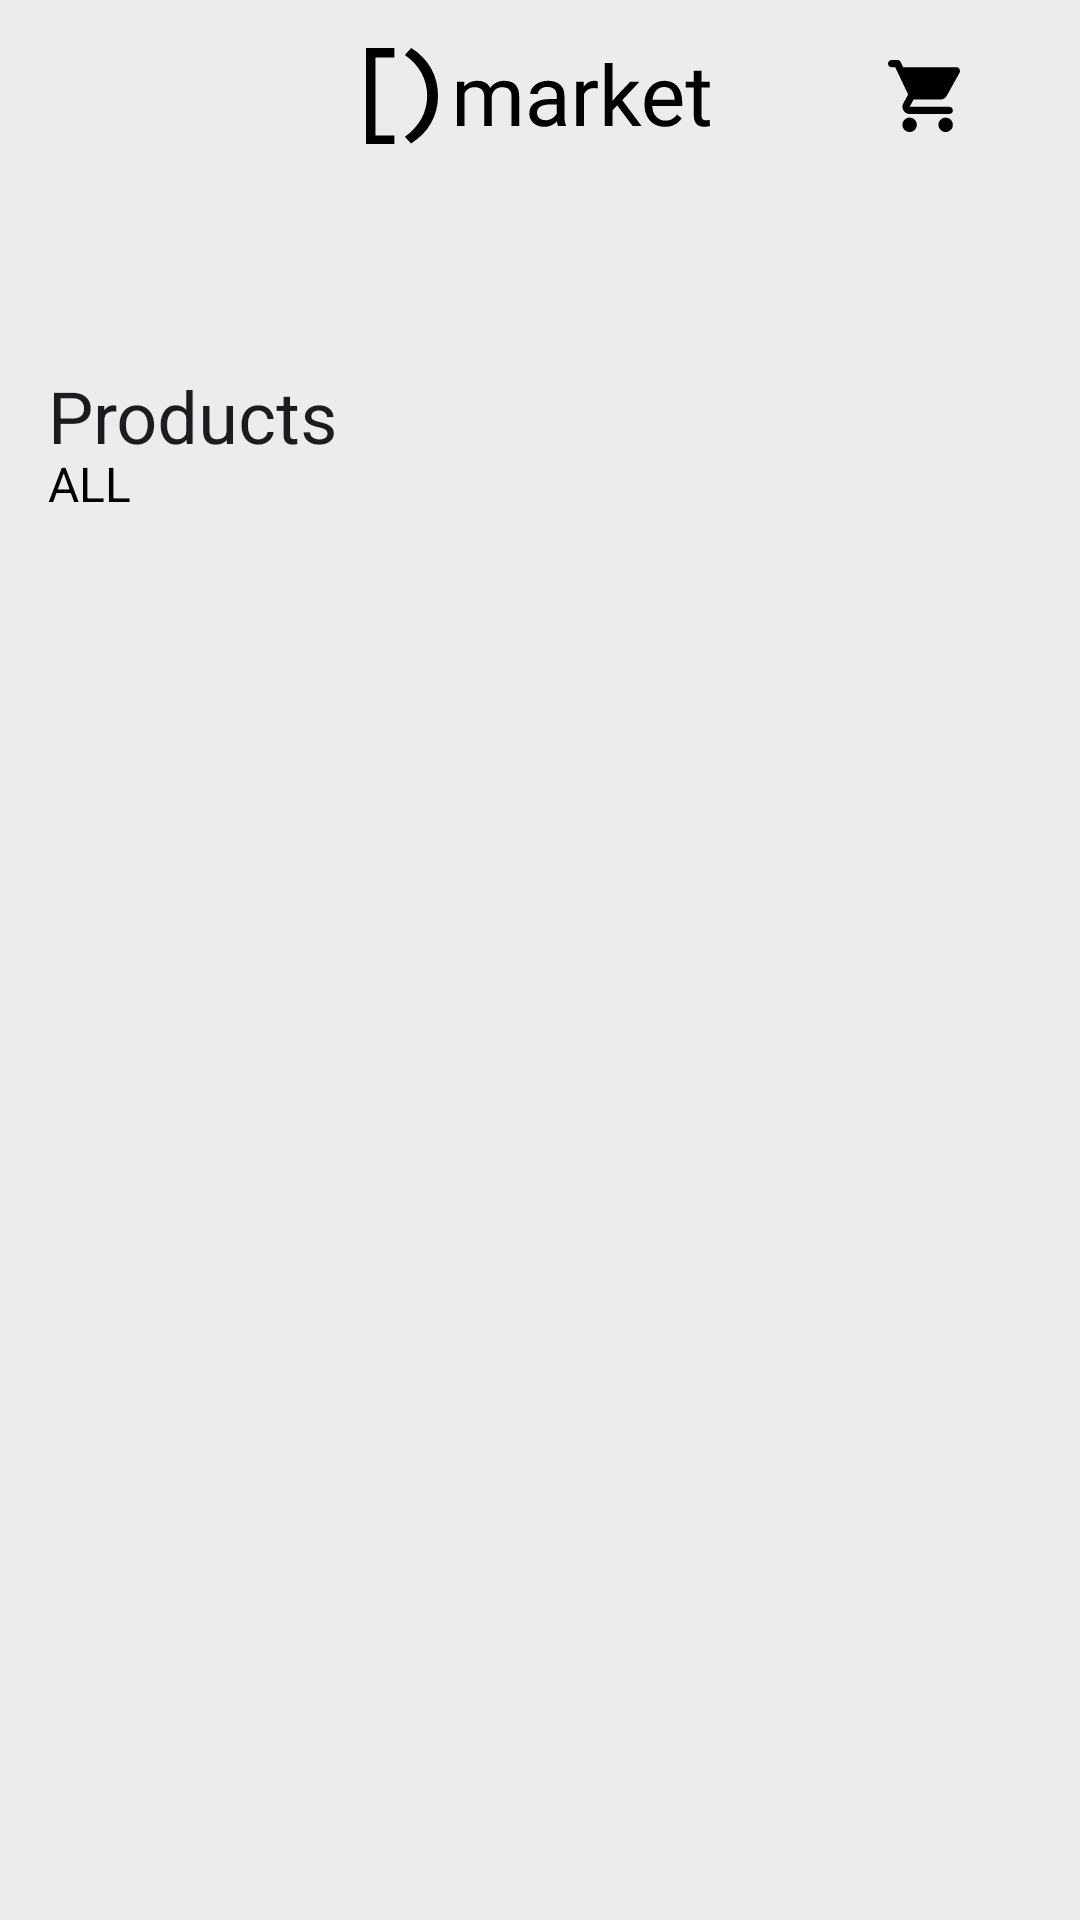

Icon bounding boxes for this 1080px×1920px phone screenshot, format (x1=x1, y1=y1, x2=x2, y2=y2):
shop card: (x1=888, y1=60, x2=960, y2=132)
